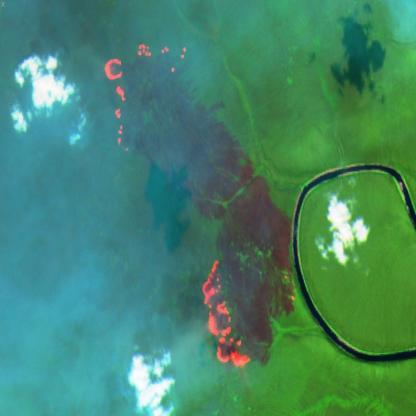fire: (100, 34, 188, 155), (200, 257, 253, 372)
